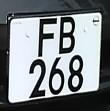2: (26, 57, 49, 100)
6: (46, 55, 67, 96)
8: (66, 53, 87, 94)
B: (56, 13, 78, 55)
F: (34, 15, 57, 59)
